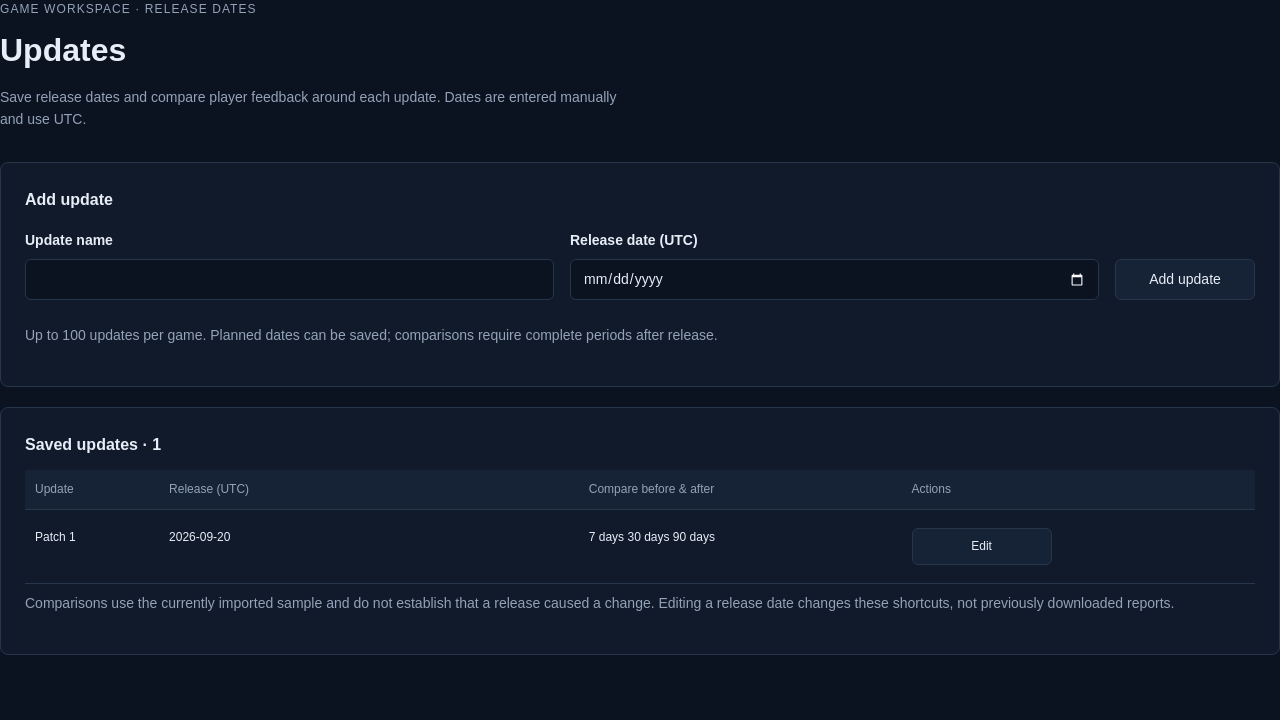
Test: sends the edit version and keeps unsaved input after a conflict
Click the button named "Edit Patch 1" at [982, 546], box [912,528,1052,565]
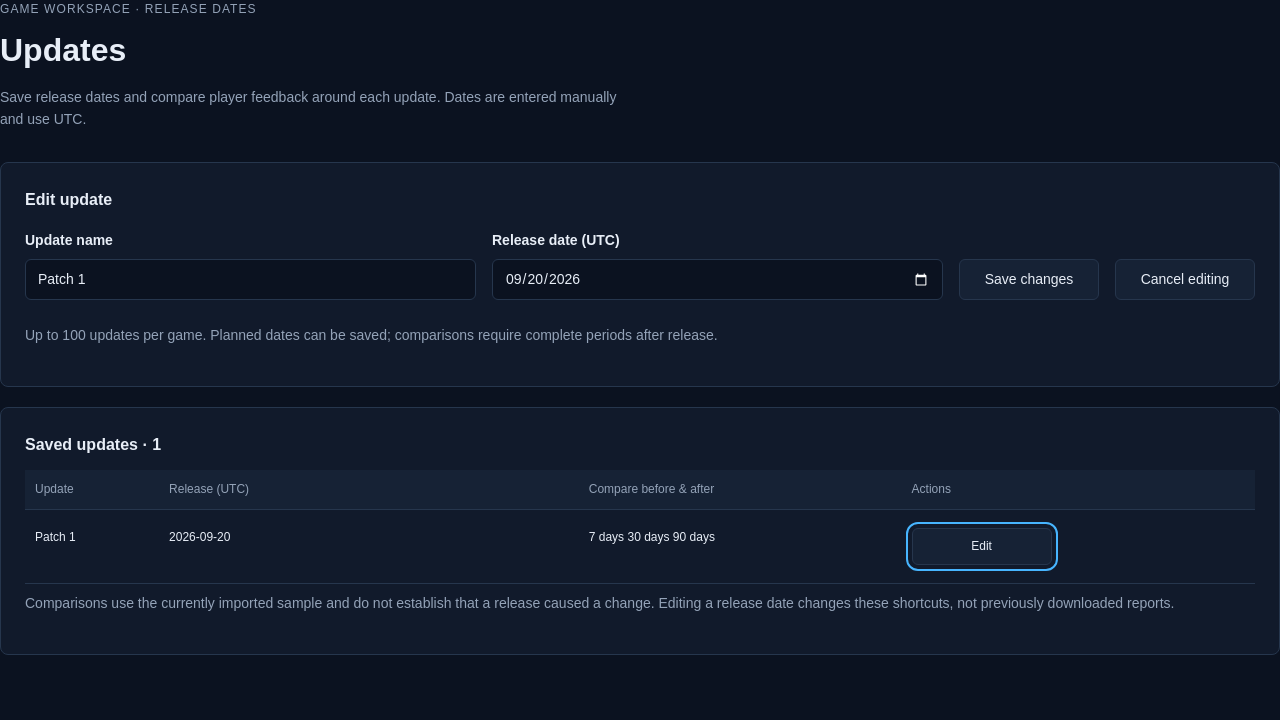
Type " revised" into the field labelled "Update name" at [250, 280], box [25,259,476,300]
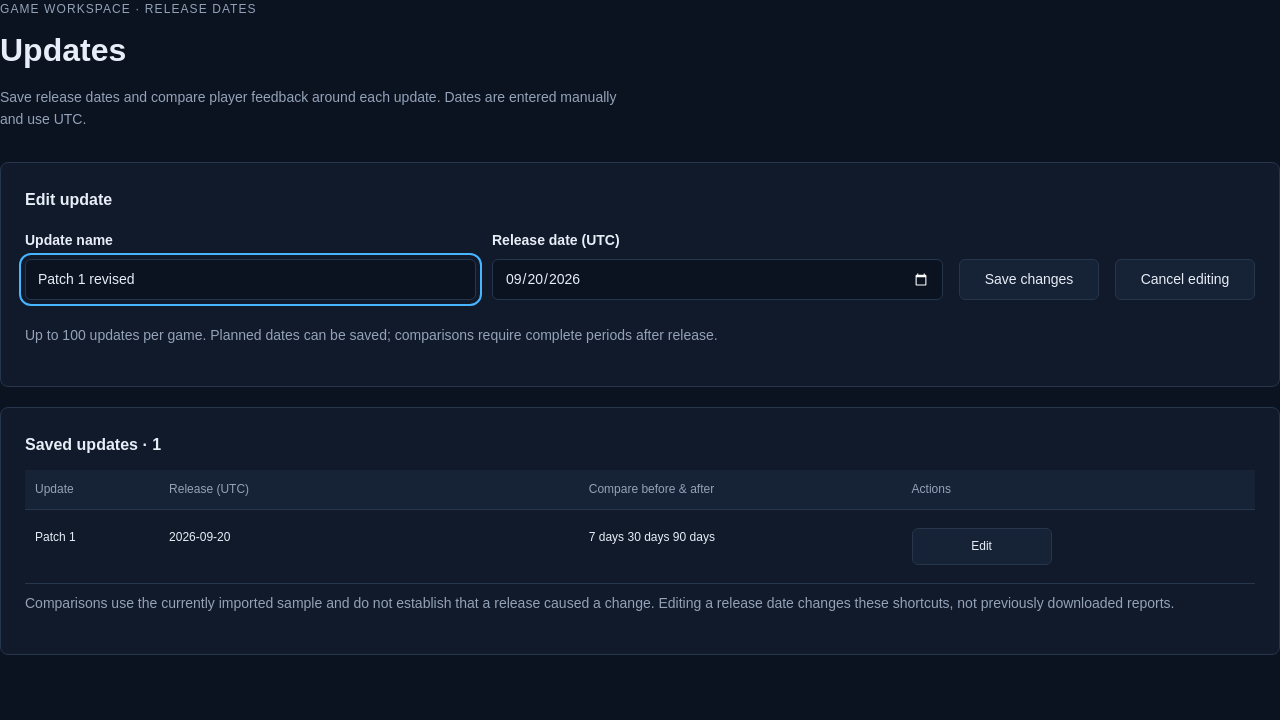
Click the button "Save changes" at [1029, 280], box [959,259,1099,300]
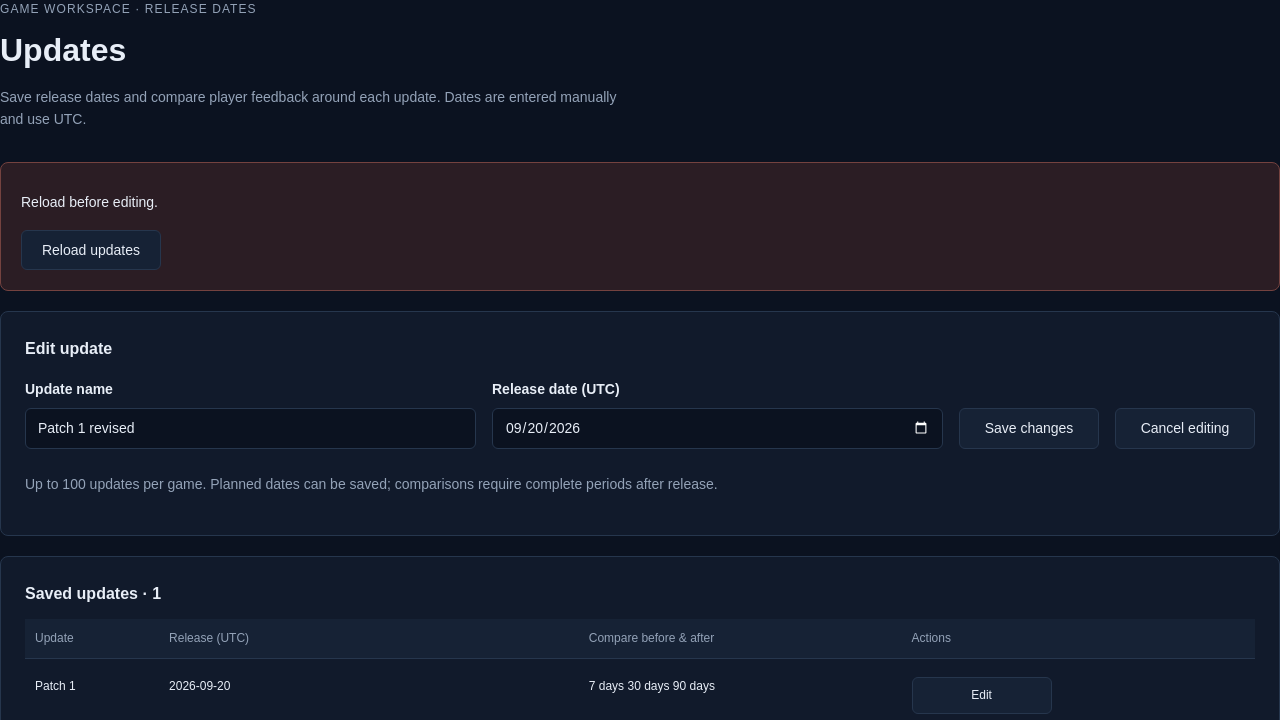
Result: the field labelled "Update name" holds "Patch 1 revised" at [25,408,476,448]
Result: the message shows "Reload before editing." at [21,194,158,210]
